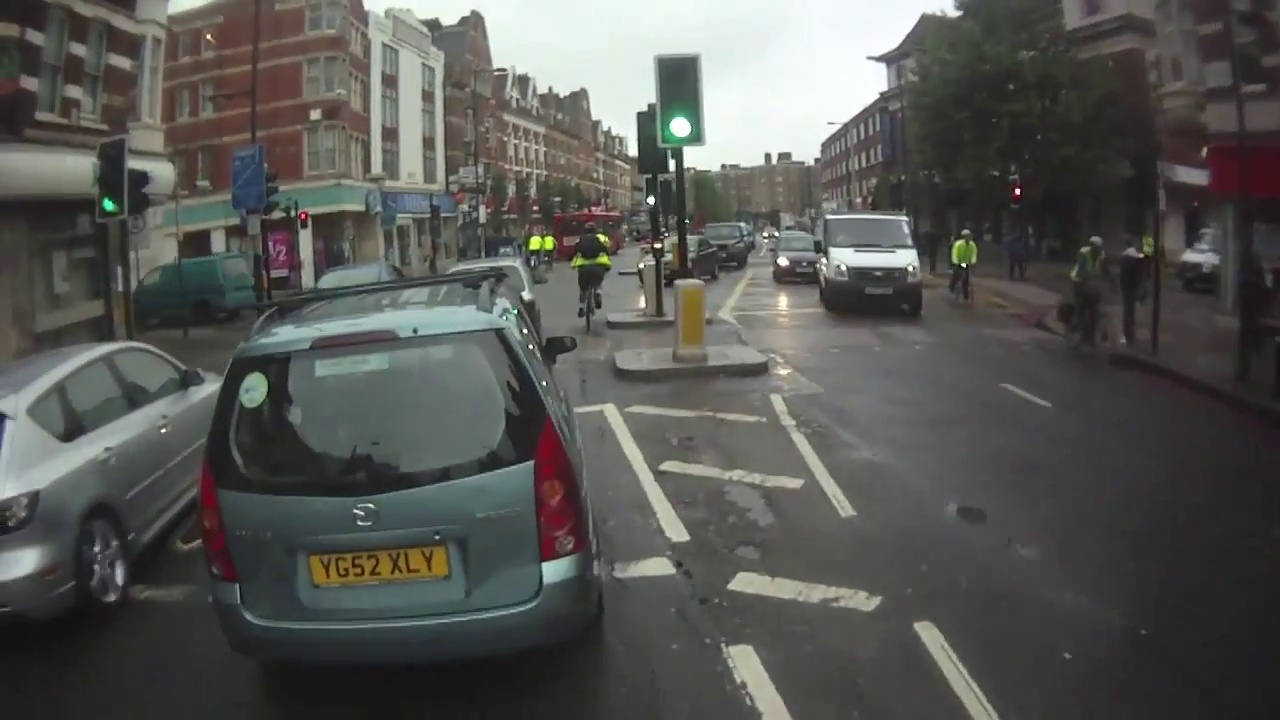cyclist_back: (569, 223, 614, 336), (539, 227, 558, 275), (524, 232, 541, 275)
cyclist_front: (946, 231, 981, 306)
